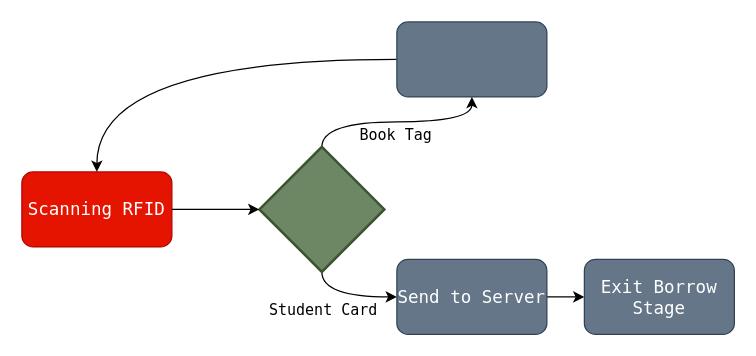
This 756x356 diagram has some shape labels left out. Each missing label, with the centre of its shape:
"Add into Vector" belongs at (x=471, y=59).
"Card Tag?" belongs at (x=321, y=208).
